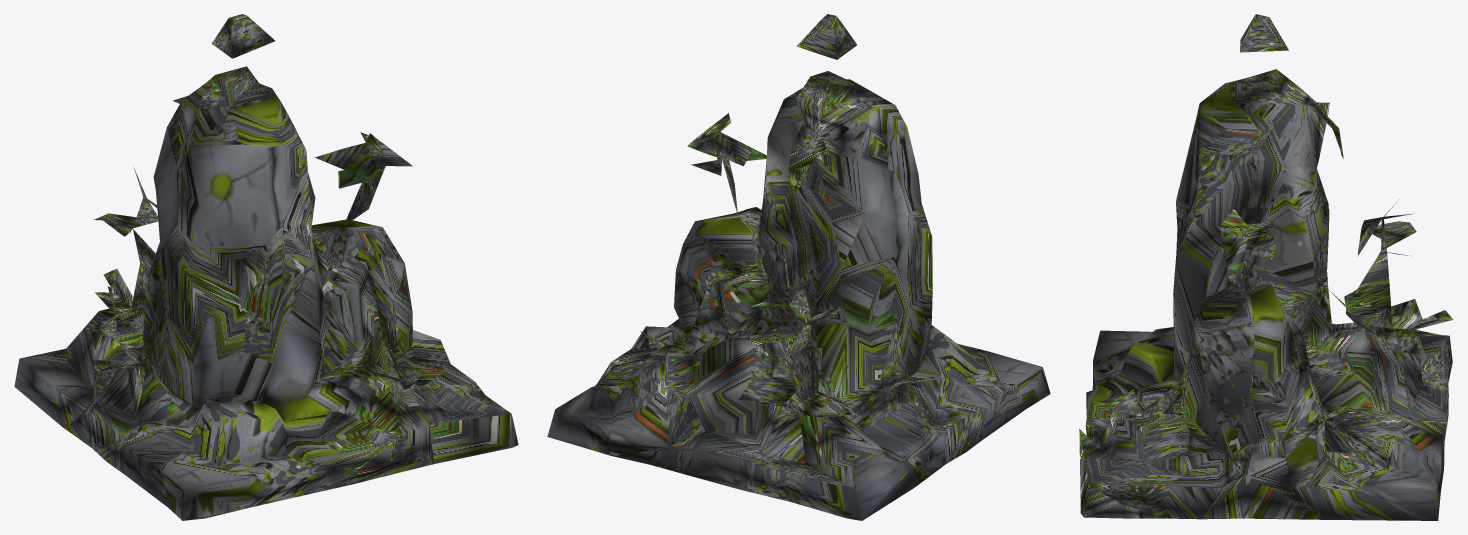
Rendered from rockery-far.glb.
3 renders of one model, left to right at view 1: azimuth 30°, elevation 25°; view 2: azimuth 150°, elevation 25°; view 3: azimuth 270°, elevation 25°, orthographic.
Visible parts, largest first — view 1: tripo_node_1eb4293b-c5e5-48d3-8f33-8c071c5bfee3; view 2: tripo_node_1eb4293b-c5e5-48d3-8f33-8c071c5bfee3; view 3: tripo_node_1eb4293b-c5e5-48d3-8f33-8c071c5bfee3.
Boxes of the visible parts, x1,y1,x2,y2 form: tripo_node_1eb4293b-c5e5-48d3-8f33-8c071c5bfee3: [14, 14, 518, 520]; tripo_node_1eb4293b-c5e5-48d3-8f33-8c071c5bfee3: [547, 14, 1050, 520]; tripo_node_1eb4293b-c5e5-48d3-8f33-8c071c5bfee3: [1079, 14, 1453, 520].
Size of the model in its own units: 0.8214 by 0.9565 by 0.7884.
Materials: 1 (1 with a texture image).
